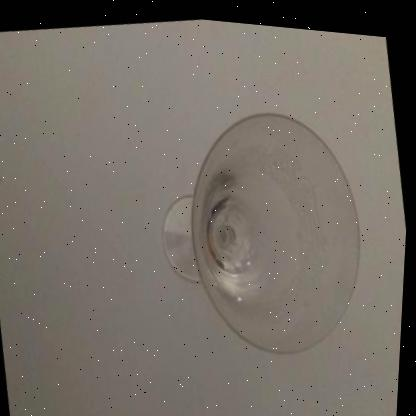Glass: (163, 106, 361, 346)
